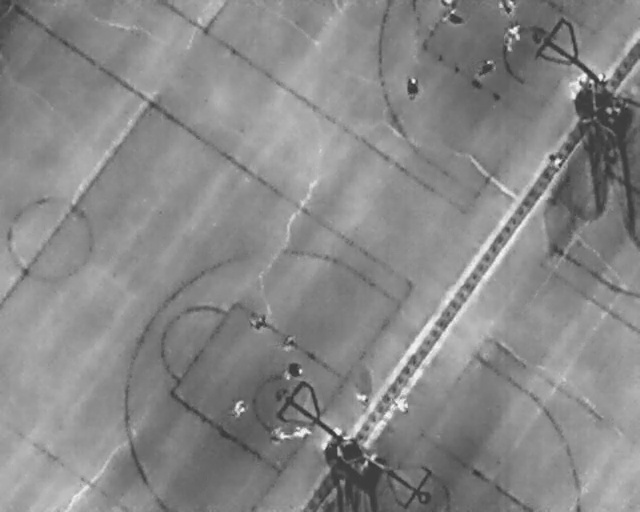Person: (502, 19, 523, 55), (474, 53, 499, 83), (286, 361, 304, 382), (250, 311, 267, 333), (407, 75, 420, 103), (232, 400, 248, 421), (282, 331, 296, 354), (293, 426, 312, 442), (498, 1, 517, 16), (271, 425, 282, 445)
